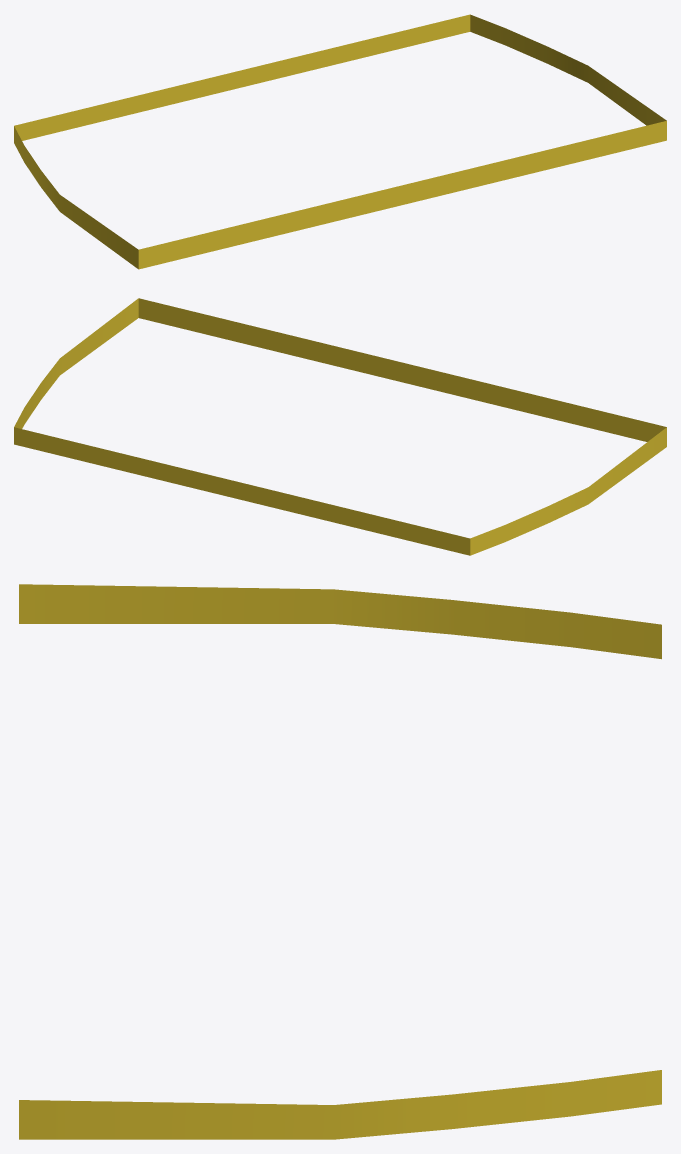
The model's file is CintaInferior.fbx.
The picture shows the model from 3 angles, top to bottom: view 1: azimuth 30°, elevation 25°; view 2: azimuth 150°, elevation 25°; view 3: azimuth 270°, elevation 25°; orthographic projection. The views are drawn at different scales.
Parts seen in each view (by area): view 1: cintainferior; view 2: cintainferior; view 3: cintainferior.
Boxes of the visible parts, <box> form: cintainferior: <box>14,14,666,269</box>; cintainferior: <box>14,298,666,555</box>; cintainferior: <box>19,584,661,1139</box>.
Size of the model in its own units: 4088 by 147 by 2153.
